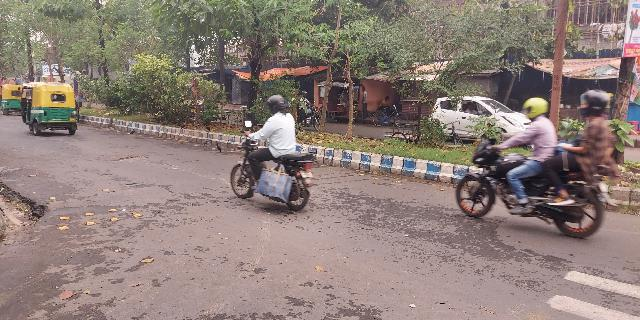Autorickshaw: (21, 84, 83, 134)
Motorbike: (453, 94, 614, 239), (224, 93, 313, 212)
